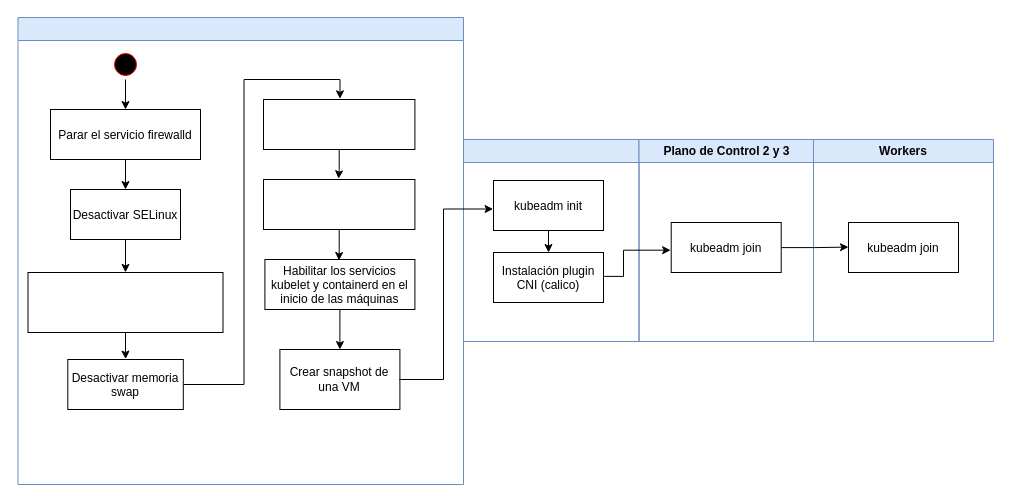
The diagram is 1011 pixels wide and 502 high, and some of its shapes have lost their labels. Each missing label, with the box of its shape:
Habilitar módulos del kernel necesarios (overlay y br_netfilter): (27, 272, 223, 332)
Instalación kubectl, kubelet, kubeadm y helm: (262, 178, 415, 230)
Instalación y configuración de containerd: (262, 98, 415, 150)
Plano de Control 1: (462, 138, 639, 342)
Todo el clúster: (17, 16, 464, 484)
